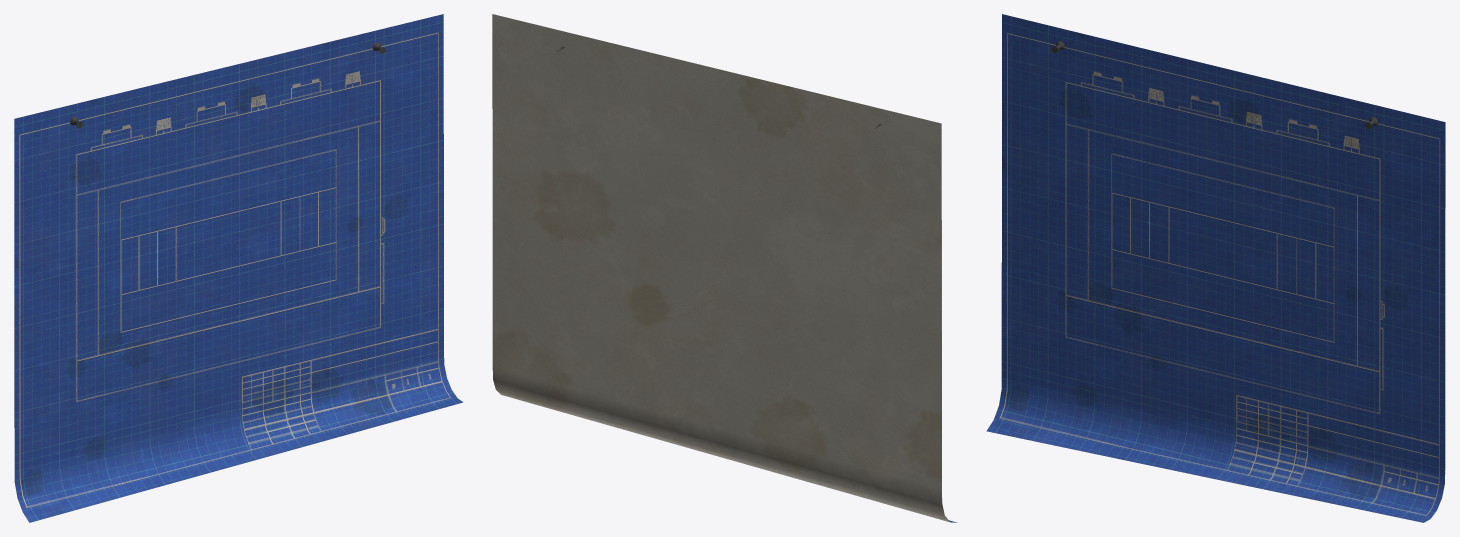
File: Blueprints12.FBX
The picture shows the model from 3 angles, left to right: view 1: azimuth 30°, elevation 25°; view 2: azimuth 150°, elevation 25°; view 3: azimuth 330°, elevation 25°; orthographic projection. The views are drawn at different scales.
Parts seen in each view (by area): view 1: Blueprints12; view 2: Blueprints12; view 3: Blueprints12.
Part boxes in pixels (x1,y1,x2,y2): Blueprints12: [14, 14, 463, 522]; Blueprints12: [492, 14, 957, 522]; Blueprints12: [986, 14, 1445, 522].
Bounding box in the file's own units: 96.78 × 84.63 × 10.28.
